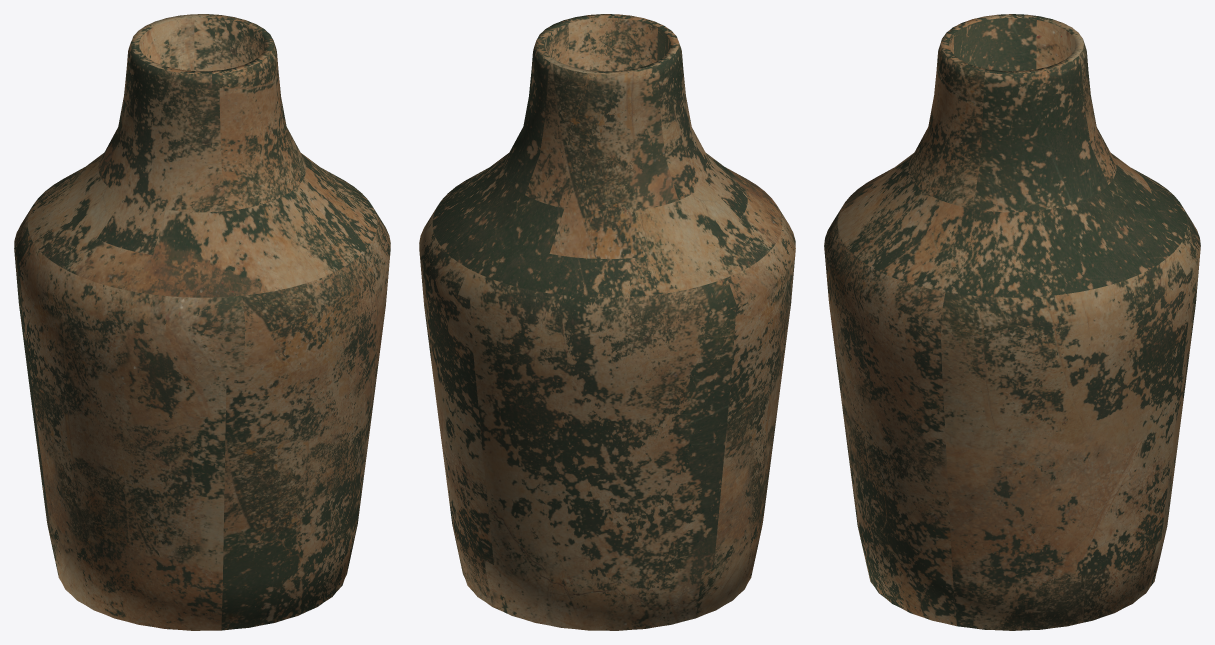
File: vase.glb
3 renders of one model, left to right at view 1: azimuth 30°, elevation 25°; view 2: azimuth 150°, elevation 25°; view 3: azimuth 270°, elevation 25°, orthographic.
Parts seen in each view (by area): view 1: Cylinder; view 2: Cylinder; view 3: Cylinder.
Part boxes in pixels (x1,y1,x2,y2): Cylinder: [14, 14, 390, 630]; Cylinder: [419, 14, 795, 630]; Cylinder: [824, 14, 1200, 630].
Bounding box in the file's own units: 1.94 × 3.05 × 1.94.
1 material, 1 textured.
